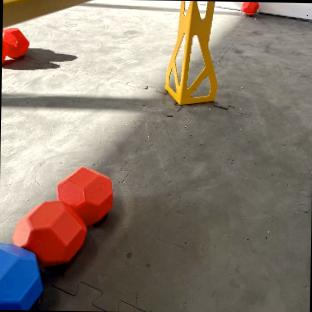V5_BLUE: (0, 243, 41, 309)
V5_RED: (12, 166, 112, 267), (2, 27, 27, 61), (241, 1, 258, 15)
